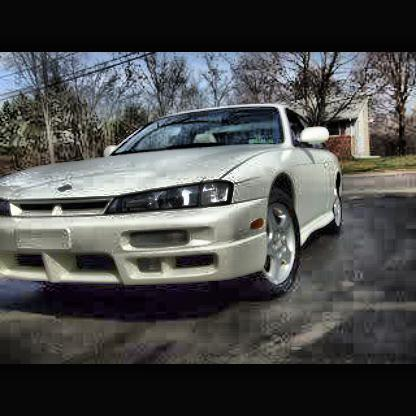Nissan 240SX Coupe 1998: (2, 99, 350, 307)
